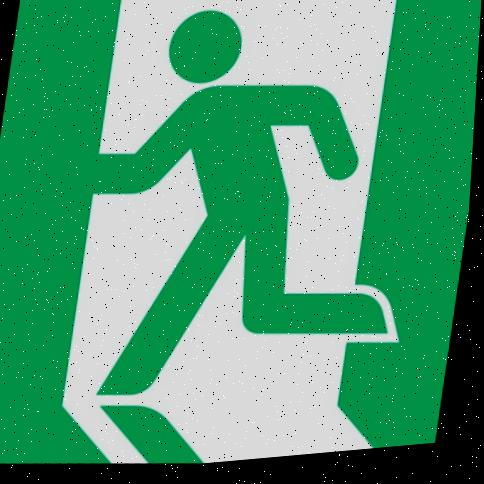emergency_exit: (2, 1, 480, 466)
